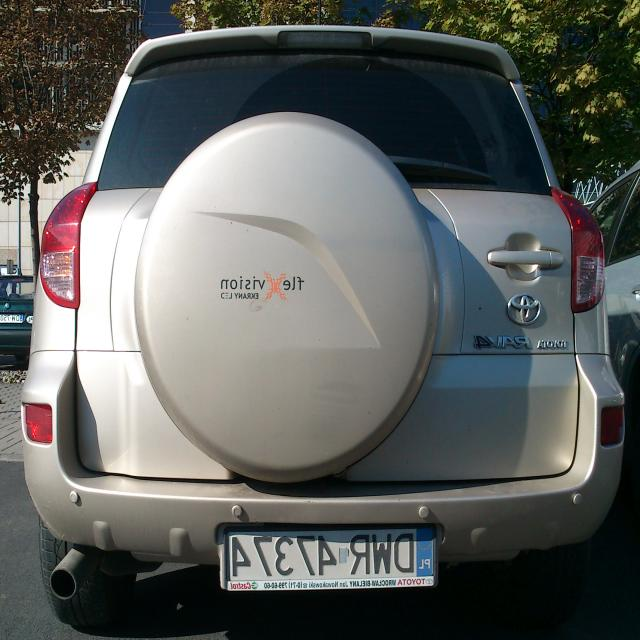pl_license_plate: (228, 528, 434, 580)
